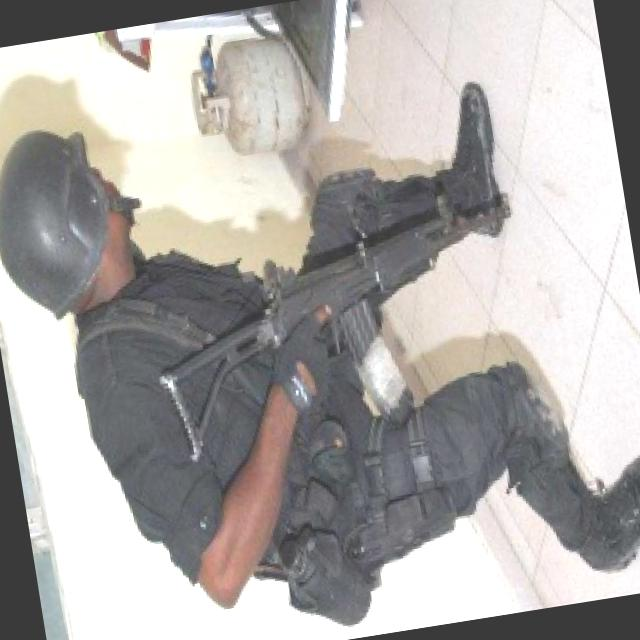long weapon: (128, 166, 520, 438)
